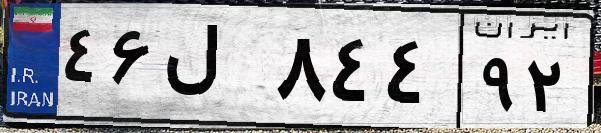2: (525, 38, 570, 115)
4: (385, 28, 445, 110), (330, 28, 385, 110), (57, 26, 110, 100)
6: (110, 28, 158, 98)
8: (270, 28, 330, 110)
9: (475, 38, 525, 113)
ل: (158, 20, 270, 120)
